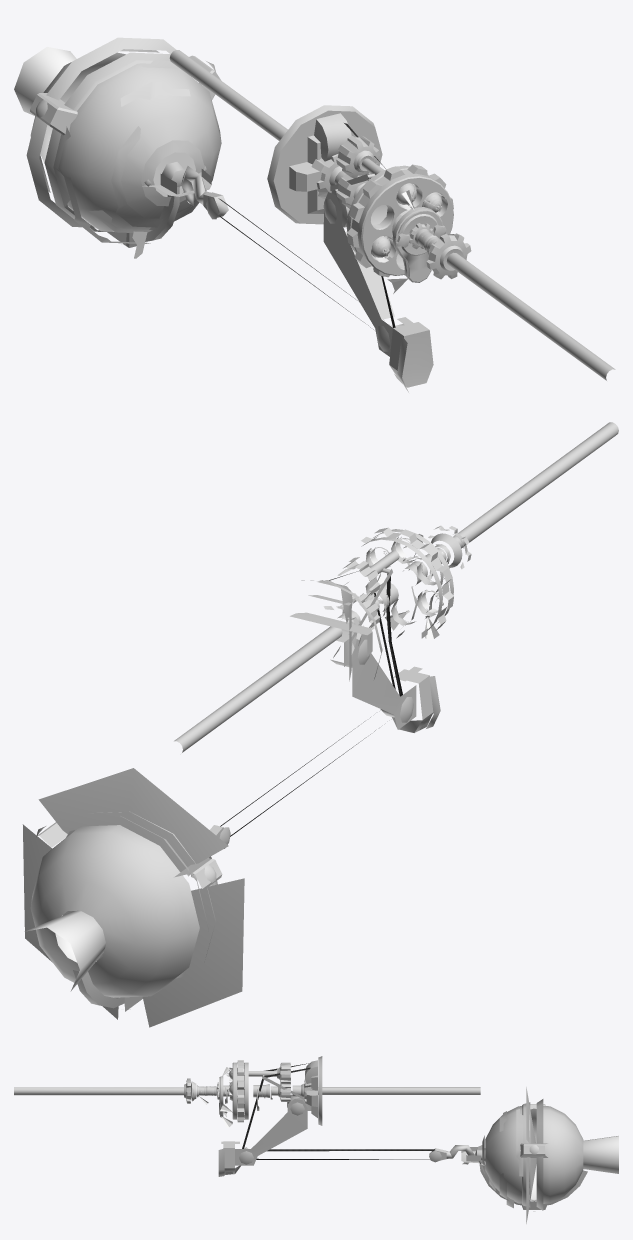
The model's file is model_pillar.glb.
The picture shows the model from 3 angles, top to bottom: view 1: azimuth 30°, elevation 25°; view 2: azimuth 150°, elevation 25°; view 3: azimuth 270°, elevation 25°; orthographic projection. The views are drawn at different scales.
Parts seen in each view (by area): view 1: rsrc.world.skybox.clockwork_tunnels.parts.model_crane-MeshNo (×4), A:\.Yandex.YandexDisk.SK SHARED FILES.Game models.1 Exported (×7); view 2: rsrc.world.skybox.clockwork_tunnels.parts.model_crane-MeshNo (×3), A:\.Yandex.YandexDisk.SK SHARED FILES.Game models.1 Exported (×3); view 3: rsrc.world.skybox.clockwork_tunnels.parts.model_crane-MeshNo (×5), A:\.Yandex.YandexDisk.SK SHARED FILES.Game models.1 Exported (×4).
Part boxes in pixels (x1,y1,x2,y2): rsrc.world.skybox.clockwork_tunnels.parts.model_crane-MeshNo (×4): (14, 37, 433, 392); A:\.Yandex.YandexDisk.SK SHARED FILES.Game models.1 Exported (×7): (169, 50, 615, 380); rsrc.world.skybox.clockwork_tunnels.parts.model_crane-MeshNo (×3): (22, 564, 440, 1027); A:\.Yandex.YandexDisk.SK SHARED FILES.Game models.1 Exported (×3): (174, 422, 618, 752); rsrc.world.skybox.clockwork_tunnels.parts.model_crane-MeshNo (×5): (218, 1056, 618, 1223); A:\.Yandex.YandexDisk.SK SHARED FILES.Game models.1 Exported (×4): (14, 1060, 480, 1122).
Size of the model in its own units: 2.67 by 3.5 by 11.78.
4 materials, 1 textured.
